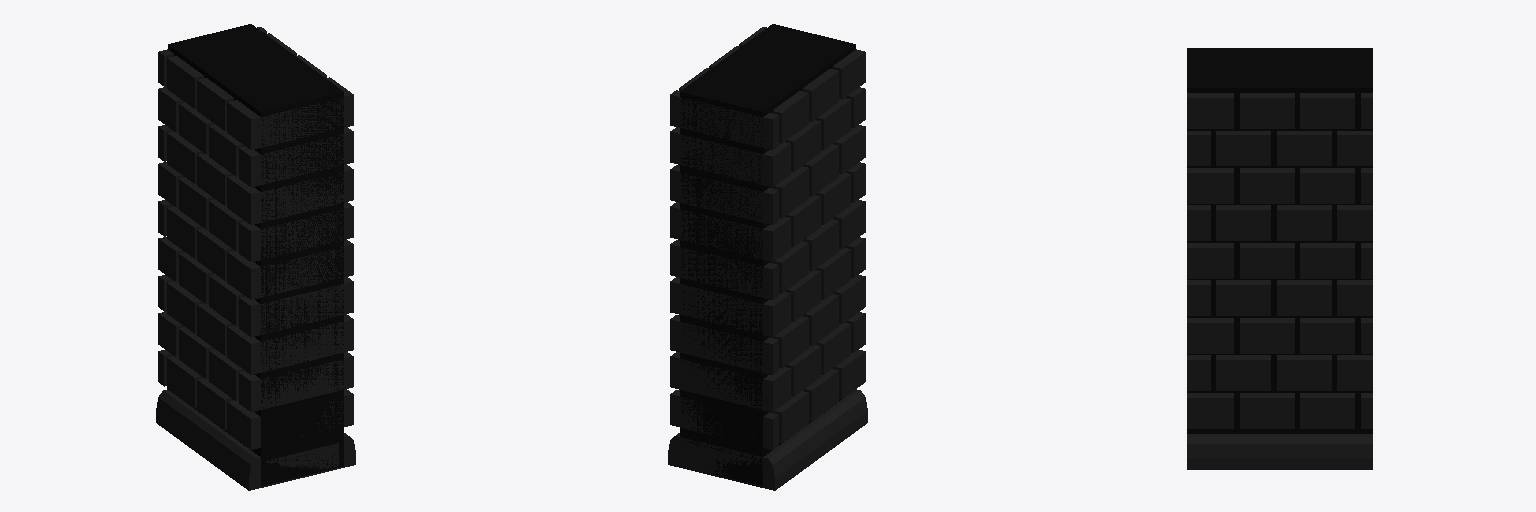
The model's file is Wall.obj.
3 views of the same model, side by side, from view 1: azimuth 30°, elevation 25°; view 2: azimuth 150°, elevation 25°; view 3: azimuth 270°, elevation 25° (orthographic).
Visible parts, largest first — view 1: Cube.001, Cube.002; view 2: Cube.001, Cube.002; view 3: Cube.001, Cube.002.
Part boxes in pixels (x1,y1,x2,y2): Cube.001: (156, 27, 355, 490); Cube.002: (168, 24, 343, 485); Cube.001: (668, 27, 867, 490); Cube.002: (680, 24, 855, 485); Cube.001: (1187, 93, 1372, 469); Cube.002: (1187, 48, 1372, 433).
Bounding box in the file's own units: 1.33 × 4.47 × 2.